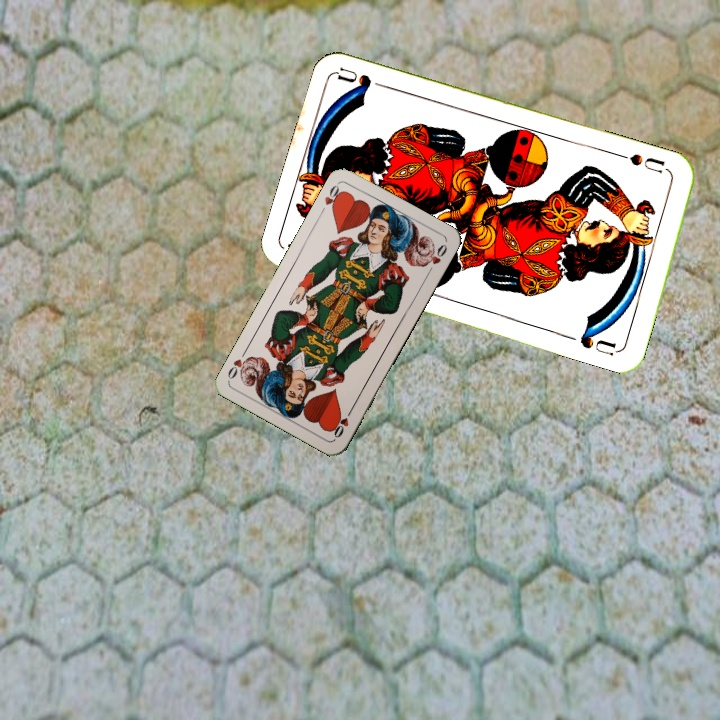HO: (329, 404, 356, 441), (320, 179, 346, 214)
SU: (615, 149, 673, 176)
